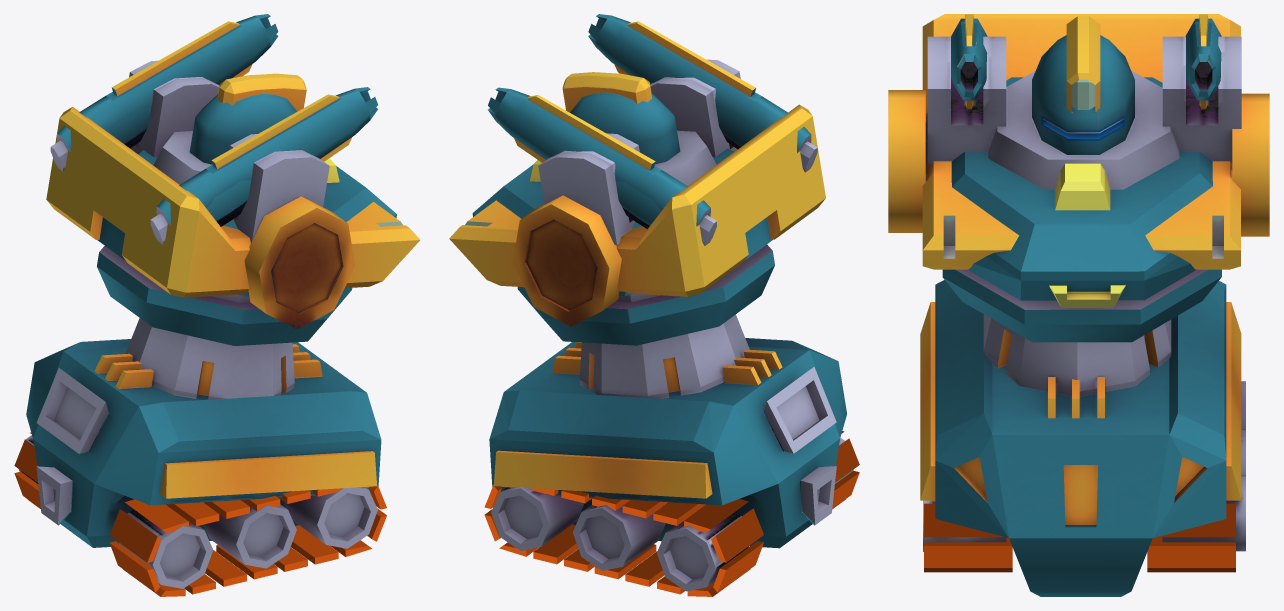
Rendered from Player_Move17.obj.
3 renders of one model, left to right at view 1: azimuth 30°, elevation 25°; view 2: azimuth 150°, elevation 25°; view 3: azimuth 270°, elevation 25°, orthographic. The views are drawn at different scales.
Visible parts, largest first — view 1: Object004, Object014, Box009, Box017, Box016; view 2: Object004, Object014, Box009, Box016, Box017; view 3: Object004, Object014, Box017, Box016, Box009.
Boxes of the visible parts, bbox=[...] form: Object004: bbox=[26, 60, 419, 547]; Object014: bbox=[50, 14, 377, 244]; Box009: bbox=[18, 435, 377, 588]; Box017: bbox=[109, 485, 386, 596]; Box016: bbox=[14, 432, 40, 508]; Object004: bbox=[449, 59, 846, 548]; Object014: bbox=[488, 14, 817, 245]; Box009: bbox=[491, 438, 853, 591]; Box016: bbox=[484, 485, 763, 596]; Box017: bbox=[832, 431, 859, 508]; Object004: bbox=[888, 14, 1269, 596]; Object014: bbox=[951, 14, 1221, 109]; Box017: bbox=[924, 503, 1012, 572]; Box016: bbox=[1147, 503, 1235, 572]; Box009: bbox=[923, 381, 1245, 551].
Bounding box in the file's own units: 60.24 × 83.2 × 52.49.
